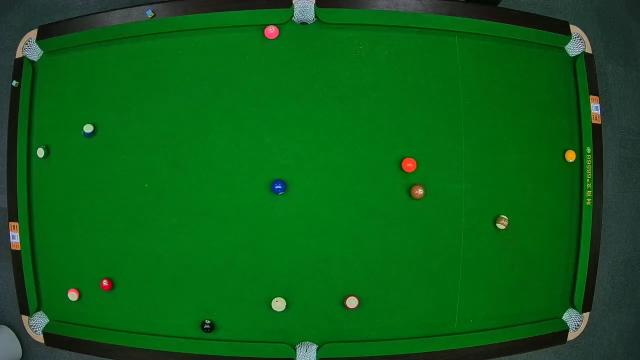bag1: (20, 38, 38, 60)
bag2: (292, 1, 316, 23)
bag3: (566, 36, 586, 54)
bag4: (29, 312, 46, 334)
bag5: (296, 340, 318, 360)
bag6: (562, 308, 582, 332)
ball0: (270, 298, 286, 312)
ball1: (566, 149, 576, 163)
ball10: (81, 124, 95, 136)
ball11: (344, 294, 360, 310)
ball12: (66, 288, 80, 302)
ball14: (35, 144, 49, 160)
ball15: (495, 215, 509, 229)
ball2: (270, 180, 288, 196)
ball3: (102, 278, 115, 292)
ball4: (264, 25, 280, 40)
ball5: (400, 157, 418, 173)
ball7: (411, 184, 425, 200)
ball8: (200, 319, 216, 333)
